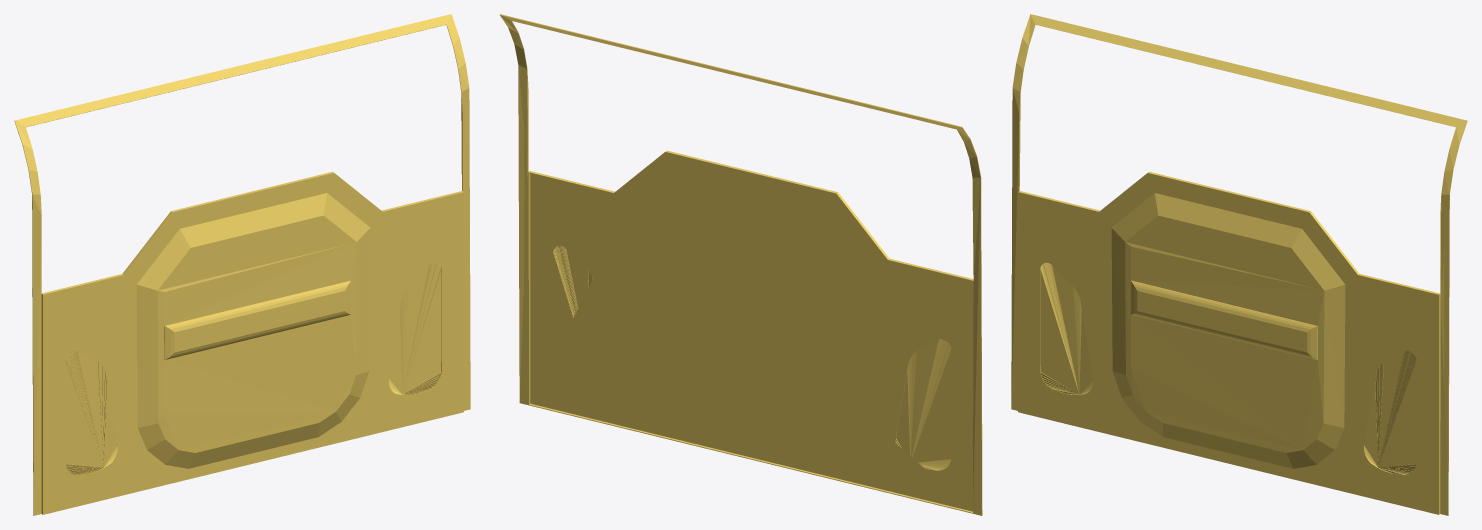
Rendered from Car Part.fbx.
The picture shows the model from 3 angles, left to right: view 1: azimuth 30°, elevation 25°; view 2: azimuth 150°, elevation 25°; view 3: azimuth 330°, elevation 25°; orthographic projection. The views are drawn at different scales.
Parts seen in each view (by area): view 1: Car Part; view 2: Car Part; view 3: Car Part.
Part boxes in pixels (left/top/right/bottom): Car Part: left=14, top=14, right=470, bottom=515; Car Part: left=499, top=14, right=982, bottom=515; Car Part: left=1011, top=14, right=1467, bottom=515.
Bounding box in the file's own units: 135 × 113 × 14.38.
